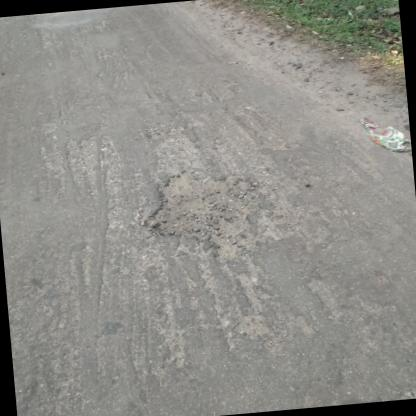pothole: (142, 162, 268, 246)
